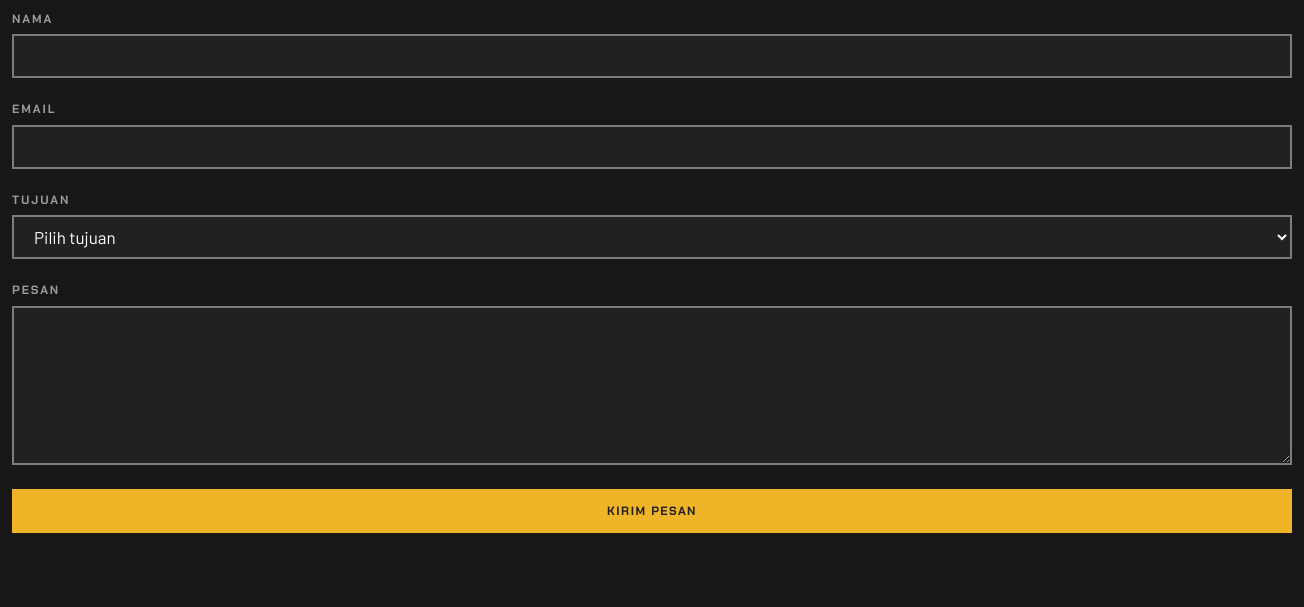
ContactForm › menampilkan error per field dan mempertahankan nilai saat gagal
The width and height of the screenshot is (1304, 607).
Type "Grace" into the field labelled "Nama" at (652, 56), box [12, 34, 1292, 78]
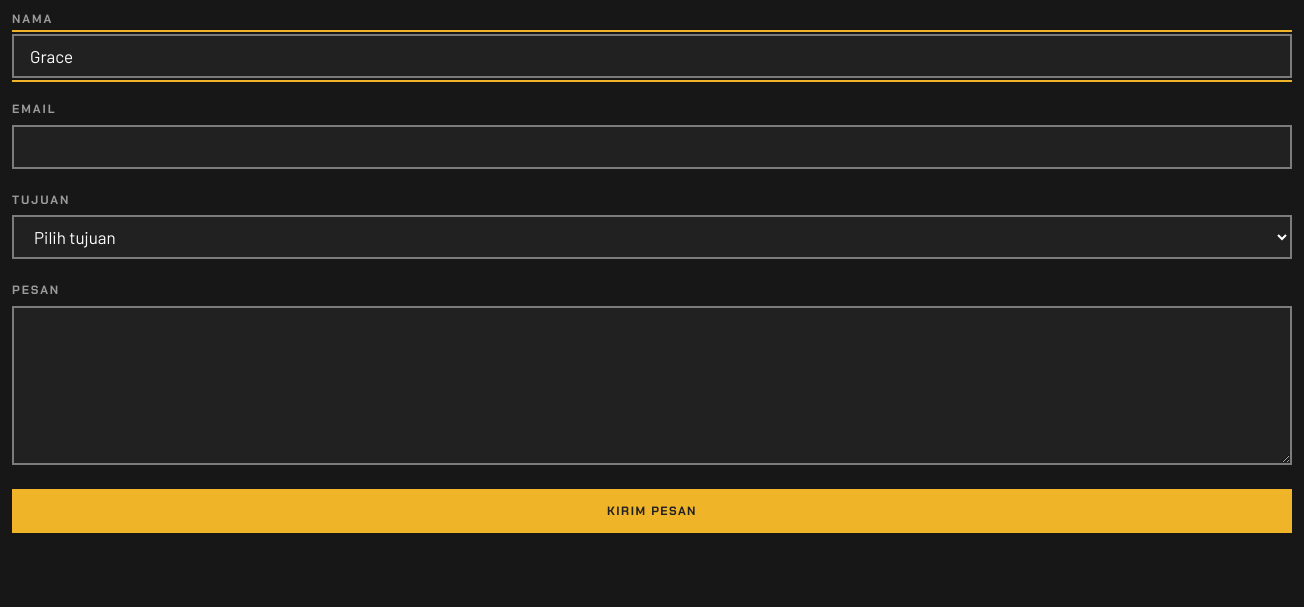
Type "bukan-email" into the field labelled "Email" at (652, 147), box [12, 125, 1292, 169]
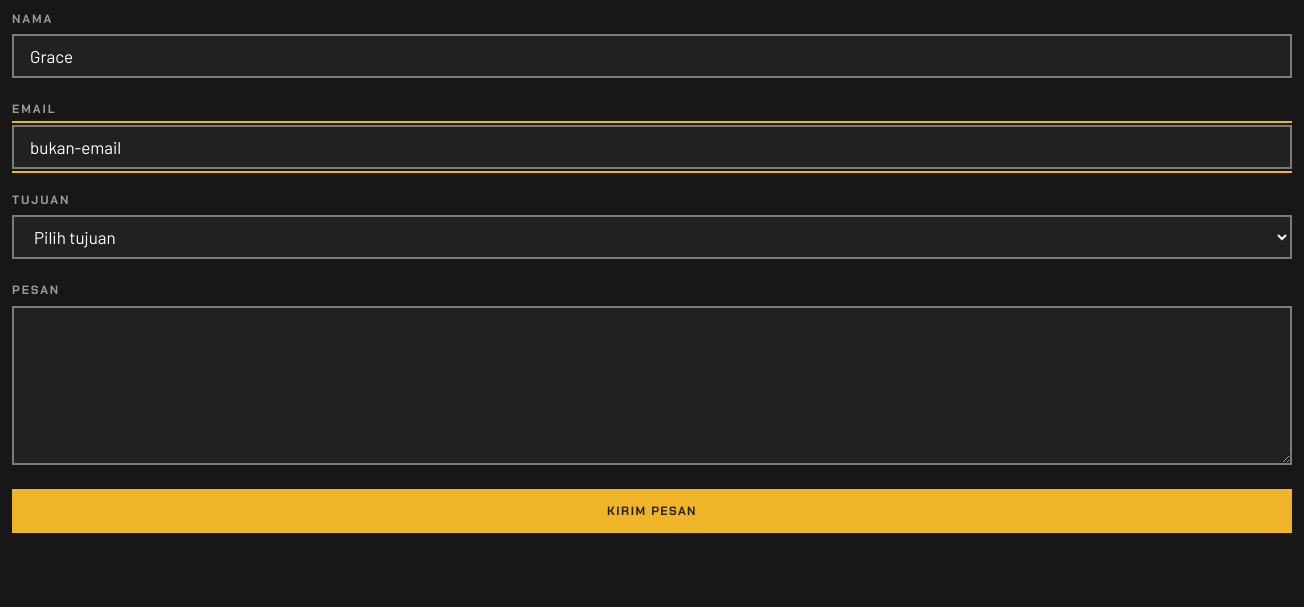
Select "Kerja sama sponsor" in the dropdown labelled "Tujuan" at (652, 237), box [12, 215, 1292, 259]
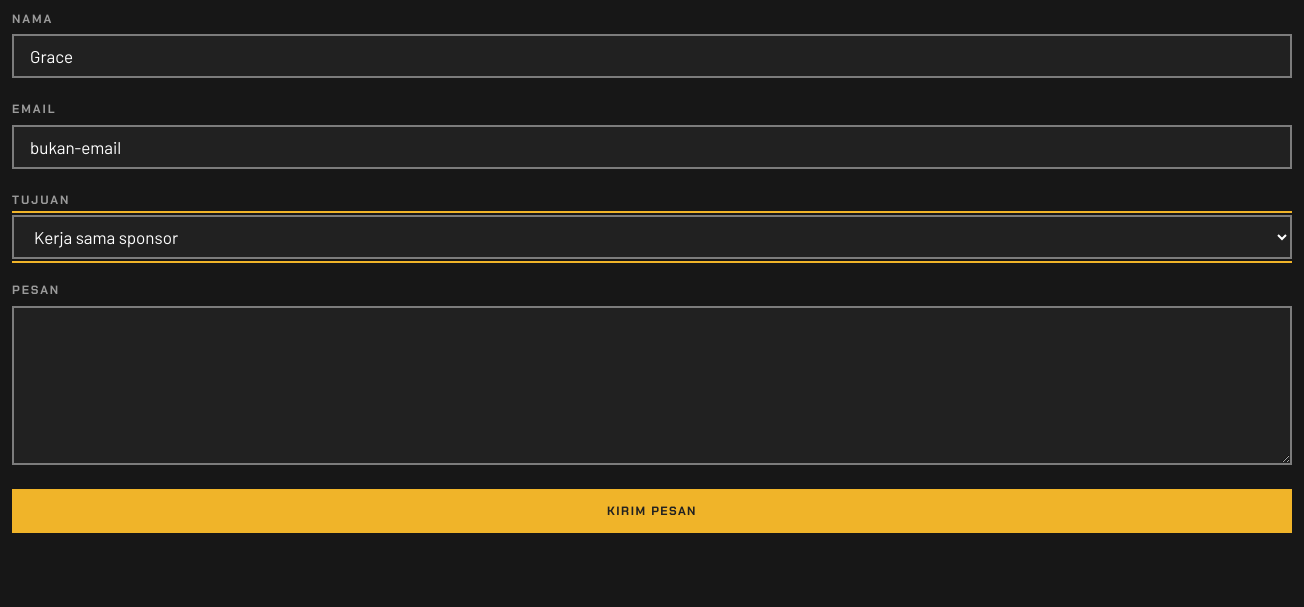
Type "pendek" into the text box labelled "Pesan" at (652, 385), box [12, 306, 1292, 465]
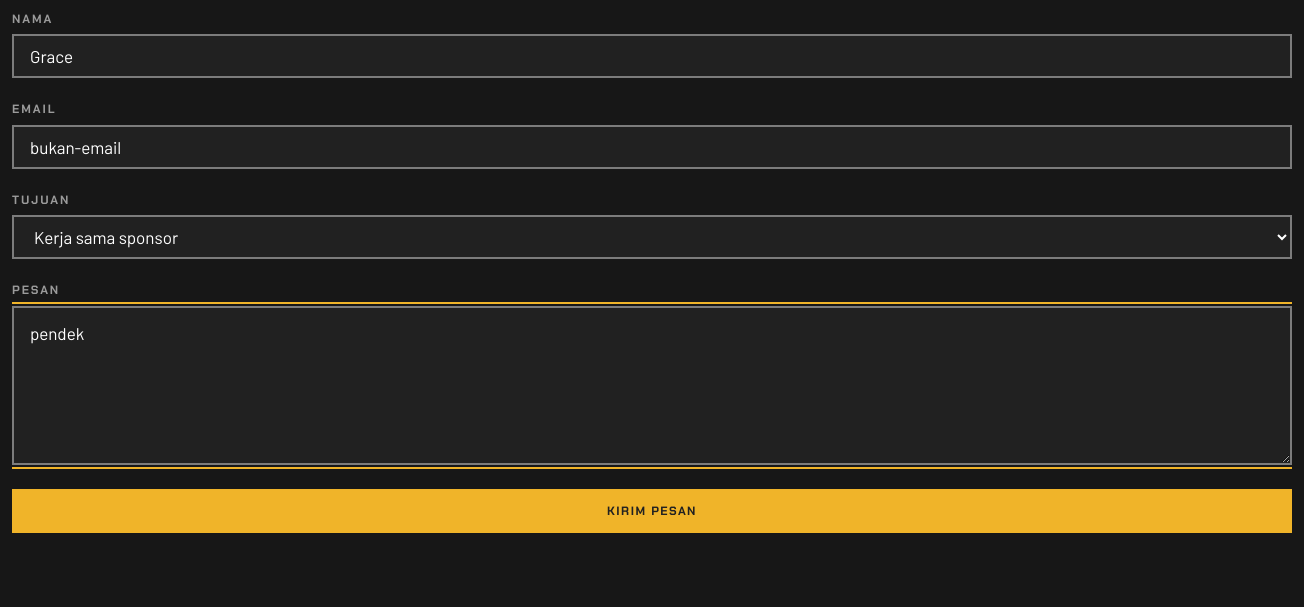
Click the button "Kirim pesan" at (652, 511), box [12, 489, 1292, 533]
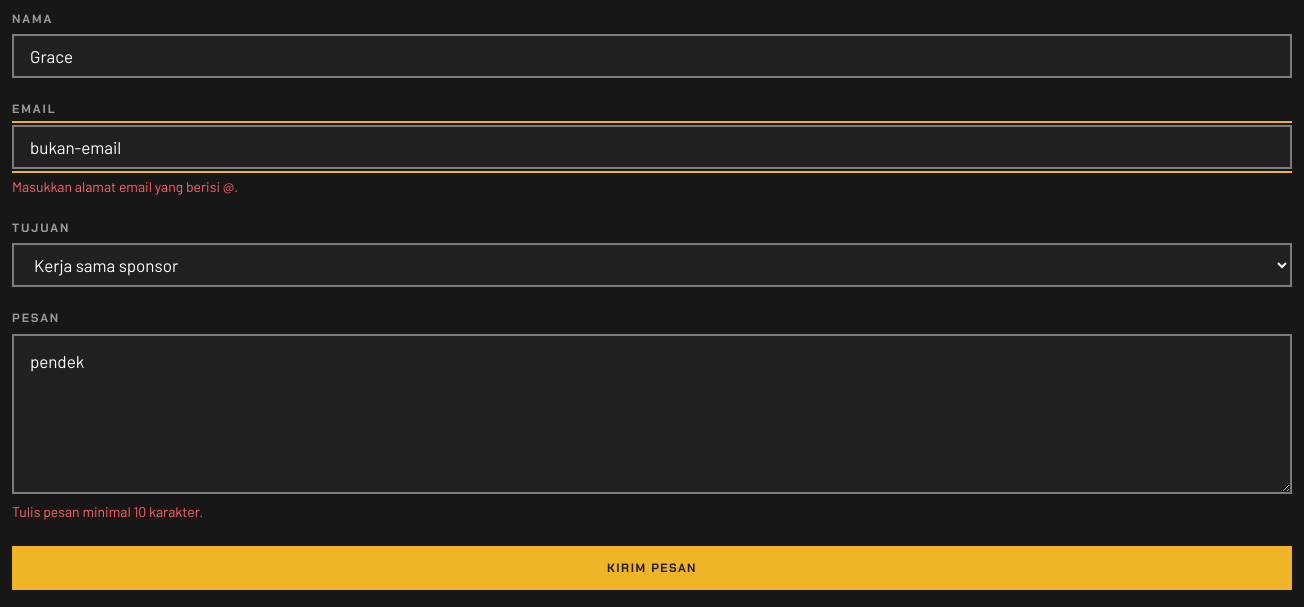
Expected: the text "Masukkan alamat email yang berisi @." is shown, [12, 178, 238, 195]
Expected: the text "Tulis pesan minimal 10 karakter." is shown, [12, 503, 203, 520]
